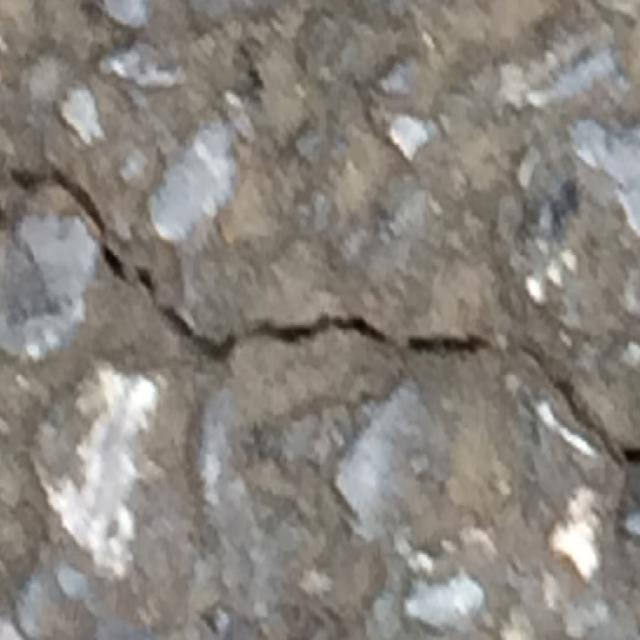Transverse: (4, 159, 640, 476)
